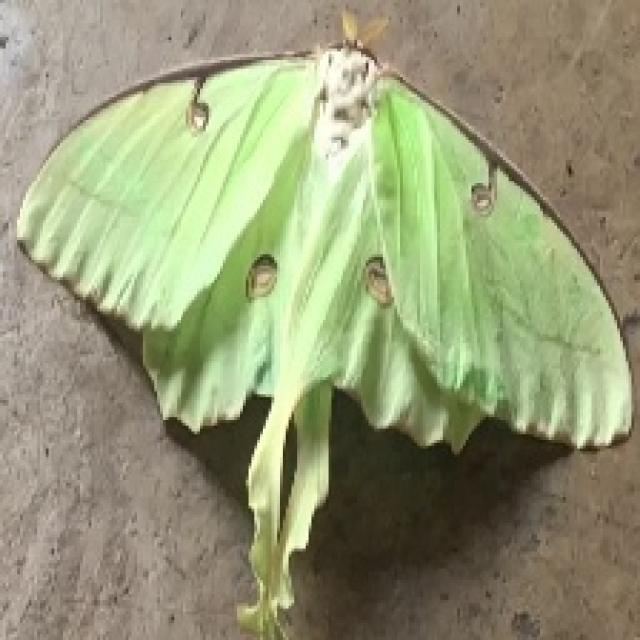butterfly: (15, 9, 634, 637)
